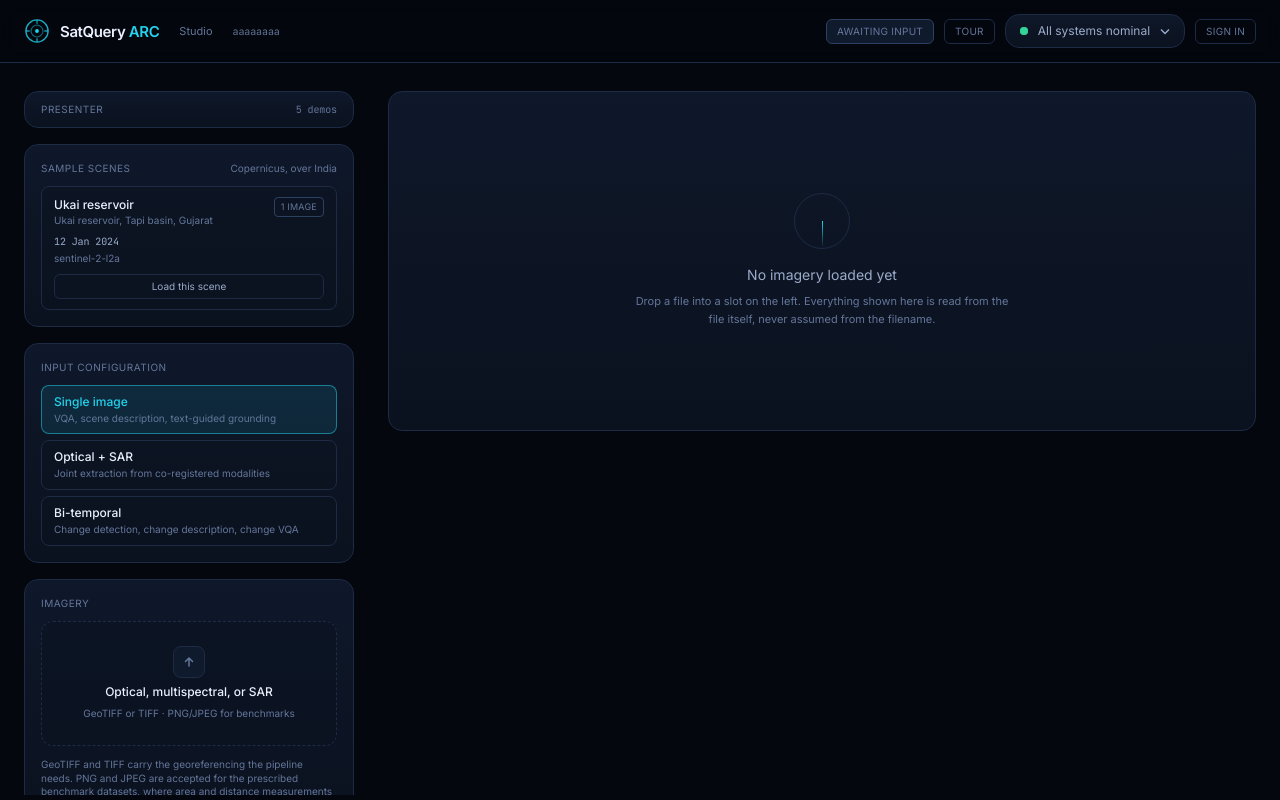
Test: Studio ingest › shows one upload slot for single image and two for a pair
Expected: the element named "input configuration" is shown, [41, 385, 337, 546]
Expected: the button "Optical, multispectral, or SAR" is shown, [42, 622, 336, 745]
Click the radio button labelled "Optical + SAR Joint extraction from co-registered modalities".
click(189, 466)  # box [41, 441, 337, 491]
(page scrolled)
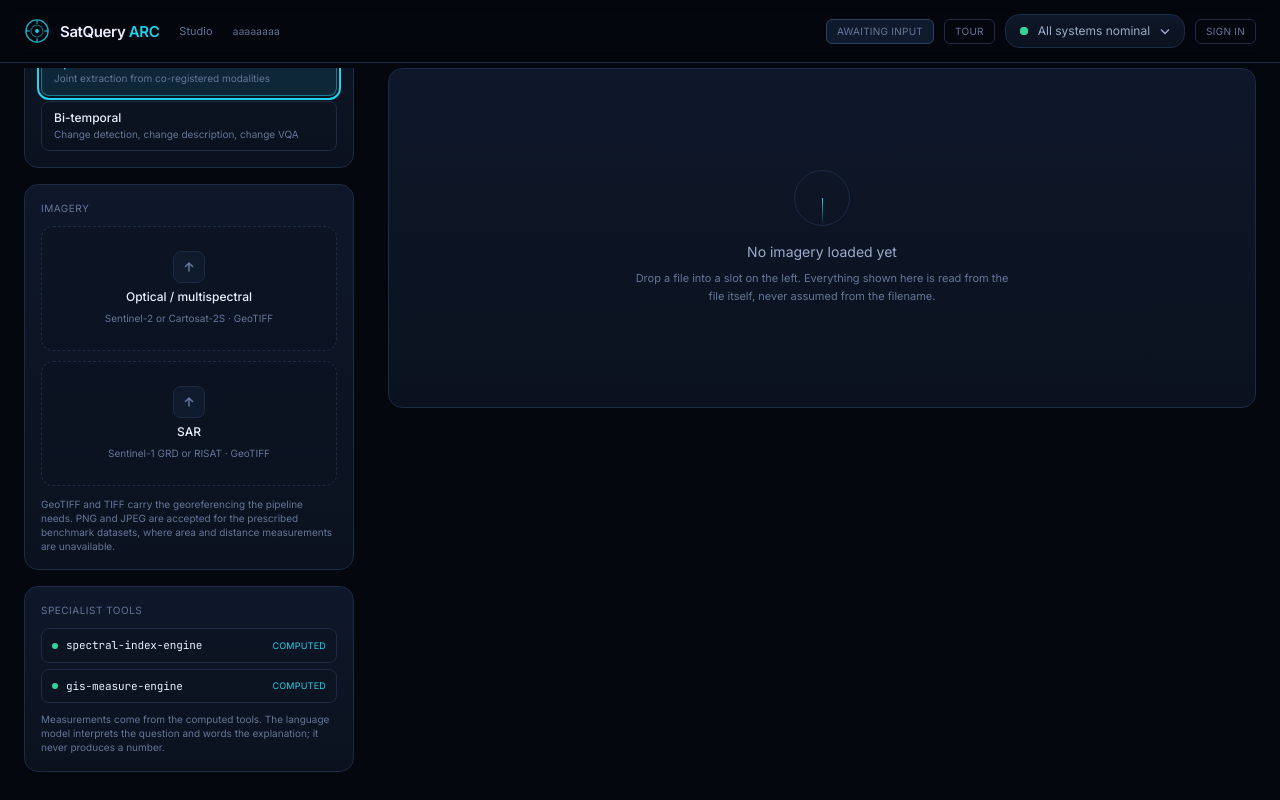
Expected: the button "Optical / multispectral Sentinel-2 or Cartosat-2S · GeoTIFF" is shown, [42, 227, 336, 350]
Expected: the button with aria-label "SAR." is shown, [42, 362, 336, 485]
